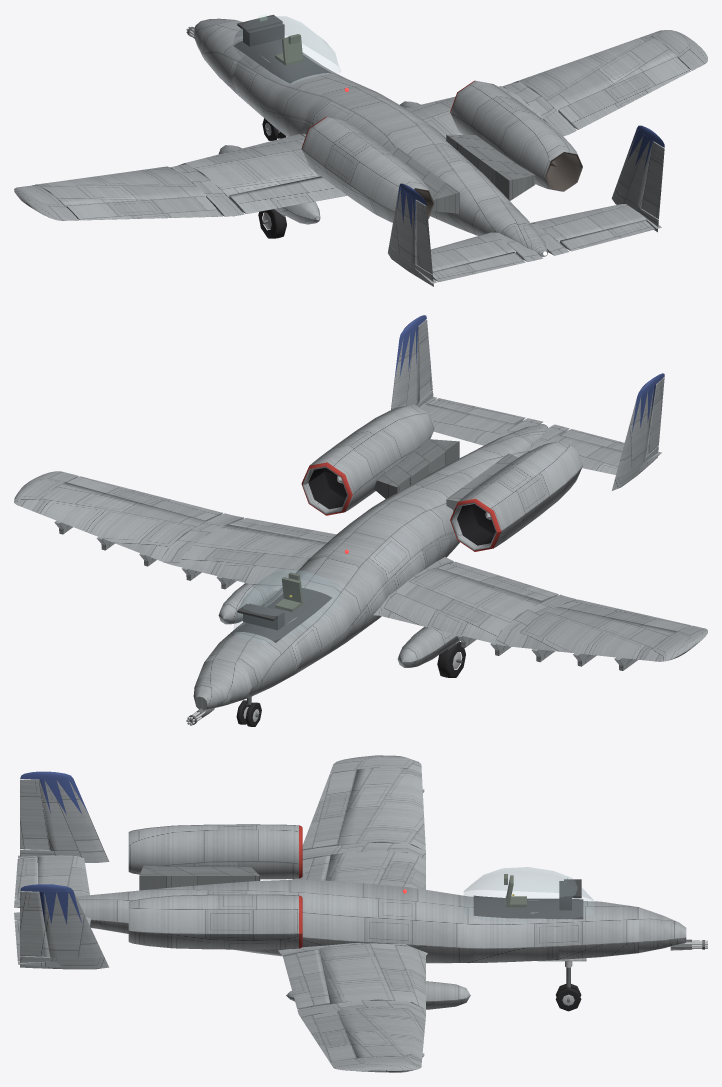
3 views of the same model, one above another, from view 1: azimuth 30°, elevation 25°; view 2: azimuth 150°, elevation 25°; view 3: azimuth 270°, elevation 25° (orthographic). The views are drawn at different scales.
Parts seen in each view (by area): view 1: Fuselage, Wing_Left, Engine_Right, Wing_Right, Engine_Left, Canopy_Glass, Cockpit_Interior, Deceleron_Right_Upper, Deceleron_Left_Upper, HorizontalTail_Right, HorizontalTail_Left, Flap_Left (+8 smaller); view 2: Fuselage, Wing_Left, Wing_Right, Engine_Right, Engine_Left, Canopy_Glass, Cockpit_Interior, VerticalTail_Left, HorizontalTail_Right, Nose, VerticalTail_Right, HorizontalTail_Left (+11 smaller); view 3: Fuselage, Wing_Right, Wing_Left, Engine_Left, Engine_Right, Canopy_Glass, VerticalTail_Left, VerticalTail_Right, Cockpit_Interior, Deceleron_Left_Upper, Flap_Right, Rudder_Left (+8 smaller).
Part boxes in pixels (x1=…): Fuselage: x1=200, y1=20, x2=547, y2=256; Wing_Left: x1=14, y1=134, x2=320, y2=220; Engine_Right: x1=446, y1=80, x2=582, y2=200; Wing_Right: x1=406, y1=30, x2=707, y2=137; Engine_Left: x1=301, y1=117, x2=459, y2=222; Canopy_Glass: x1=233, y1=16, x2=340, y2=84; Cockpit_Interior: x1=233, y1=14, x2=331, y2=83; Deceleron_Right_Upper: x1=558, y1=57, x2=690, y2=129; Deceleron_Left_Upper: x1=66, y1=196, x2=222, y2=220; HorizontalTail_Right: x1=530, y1=204, x2=661, y2=255; HorizontalTail_Left: x1=409, y1=232, x2=542, y2=283; Flap_Left: x1=229, y1=176, x2=346, y2=213; Fuselage: x1=204, y1=424, x2=547, y2=697; Wing_Left: x1=373, y1=557, x2=707, y2=661; Wing_Right: x1=14, y1=471, x2=326, y2=590; Engine_Right: x1=301, y1=404, x2=459, y2=515; Engine_Left: x1=446, y1=440, x2=582, y2=551; Canopy_Glass: x1=234, y1=569, x2=340, y2=642; Cockpit_Interior: x1=233, y1=572, x2=331, y2=642; VerticalTail_Left: x1=612, y1=373, x2=664, y2=490; HorizontalTail_Right: x1=420, y1=397, x2=542, y2=445; Nose: x1=193, y1=659, x2=251, y2=710; VerticalTail_Right: x1=391, y1=315, x2=433, y2=409; HorizontalTail_Left: x1=530, y1=424, x2=661, y2=474; Fuselage: x1=76, y1=879, x2=638, y2=963; Wing_Right: x1=278, y1=943, x2=427, y2=1072; Wing_Left: x1=302, y1=755, x2=425, y2=889; Engine_Left: x1=128, y1=824, x2=302, y2=890; Engine_Right: x1=128, y1=894, x2=302, y2=949; Canopy_Glass: x1=464, y1=867, x2=593, y2=921; VerticalTail_Left: x1=20, y1=771, x2=109, y2=862; VerticalTail_Right: x1=20, y1=884, x2=109, y2=969; Cockpit_Interior: x1=473, y1=874, x2=583, y2=919; Deceleron_Left_Upper: x1=302, y1=770, x2=356, y2=849; Flap_Right: x1=283, y1=949, x2=330, y2=1009; Rudder_Left: x1=20, y1=779, x2=49, y2=849.
Size of the model in its own units: 17.49 by 4.53 by 16.32.
Materials: 17 (2 with a texture image).
